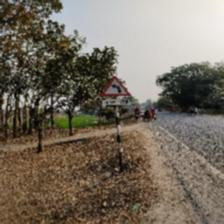Animal: (93, 68, 141, 119)
